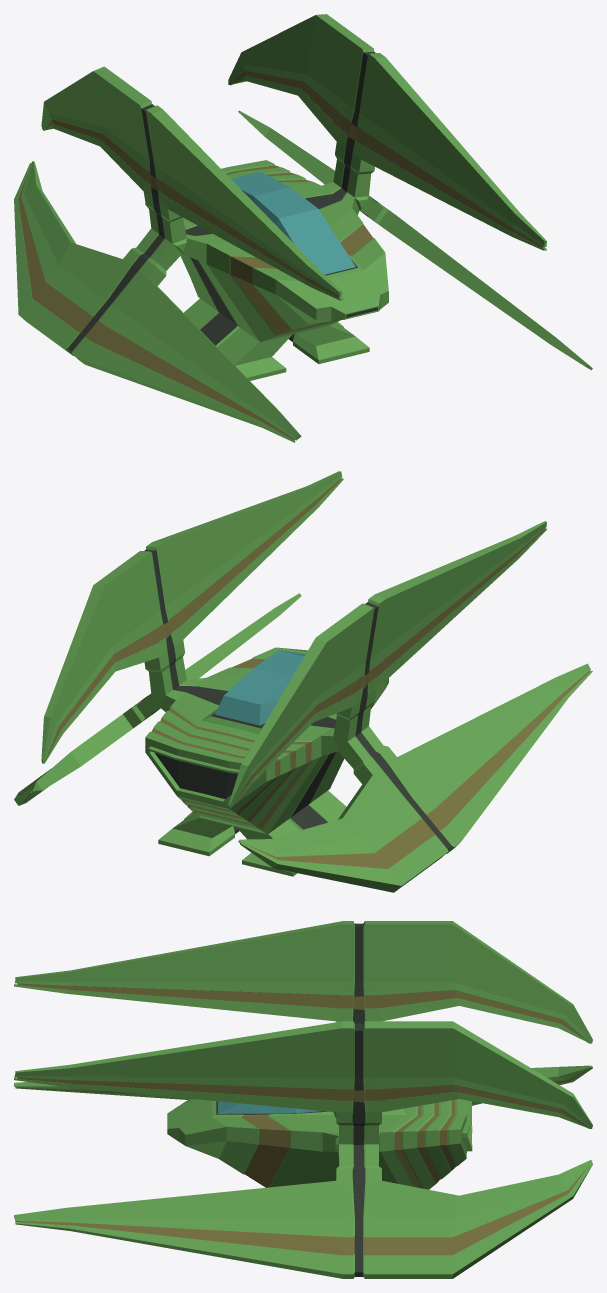
File: ep1 spaceship.fbx
3 views of the same model, one above another, from view 1: azimuth 30°, elevation 25°; view 2: azimuth 150°, elevation 25°; view 3: azimuth 270°, elevation 25° (orthographic). The views are drawn at different scales.
Visible parts, largest first — view 1: LP spaship; view 2: LP spaship; view 3: LP spaship.
Boxes of the visible parts, x1=… form: LP spaship: x1=14, y1=14, x2=592, y2=442; LP spaship: x1=14, y1=471, x2=592, y2=892; LP spaship: x1=14, y1=921, x2=592, y2=1278.
Bounding box in the file's own units: 1566 × 1016 × 2183.
1 material, 1 textured.
